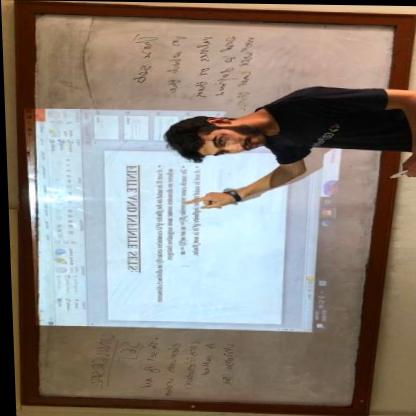Handwritten text: (118, 31, 159, 93), (79, 329, 114, 393), (185, 33, 213, 105), (160, 28, 184, 103), (126, 338, 158, 391), (155, 341, 178, 399), (175, 339, 197, 392), (214, 340, 237, 387), (107, 335, 136, 369), (194, 340, 215, 378)
Lecturer: (144, 74, 416, 197)
Whiteboard: (18, 9, 392, 409)
